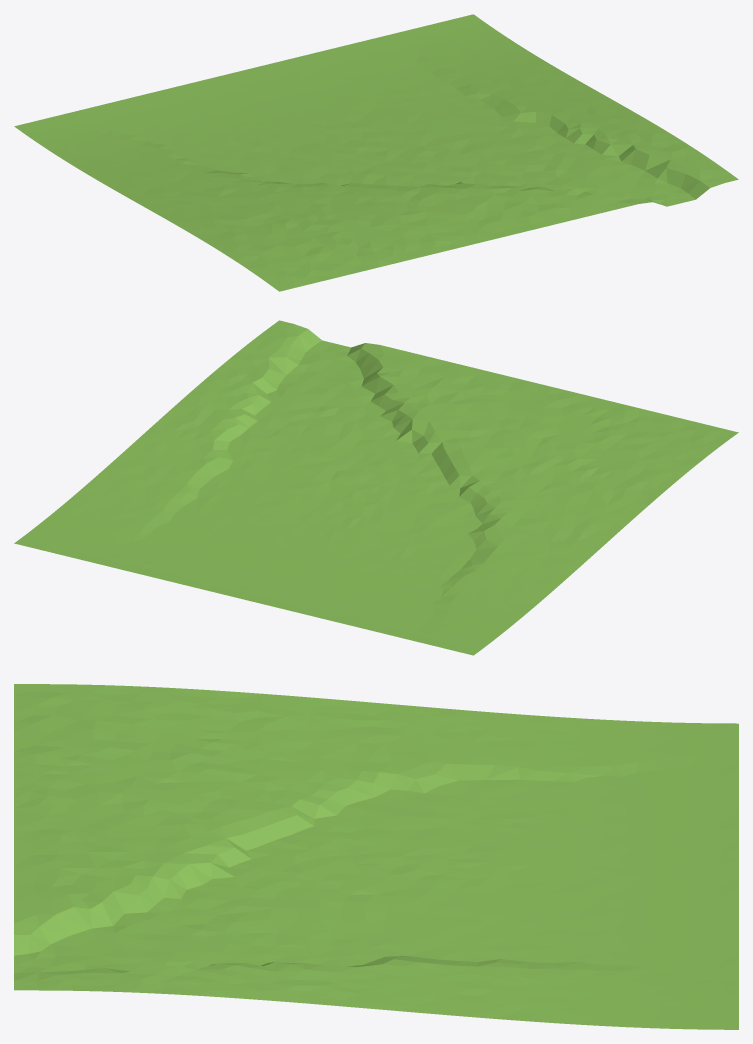
File: MT_River_End_L_c_01_R_LOD.fbx
The picture shows the model from 3 angles, top to bottom: view 1: azimuth 30°, elevation 25°; view 2: azimuth 150°, elevation 25°; view 3: azimuth 270°, elevation 25°; orthographic projection. The views are drawn at different scales.
Visible parts, largest first — view 1: MT_River_End_L_c_01_R_LOD0; view 2: MT_River_End_L_c_01_R_LOD0; view 3: MT_River_End_L_c_01_R_LOD0.
Boxes of the visible parts, bbox=[...] form: MT_River_End_L_c_01_R_LOD0: bbox=[14, 14, 738, 291]; MT_River_End_L_c_01_R_LOD0: bbox=[14, 320, 738, 655]; MT_River_End_L_c_01_R_LOD0: bbox=[14, 684, 738, 1029].
Size of what is drawn, in the model's own units: 10000 by 612 by 10000.
